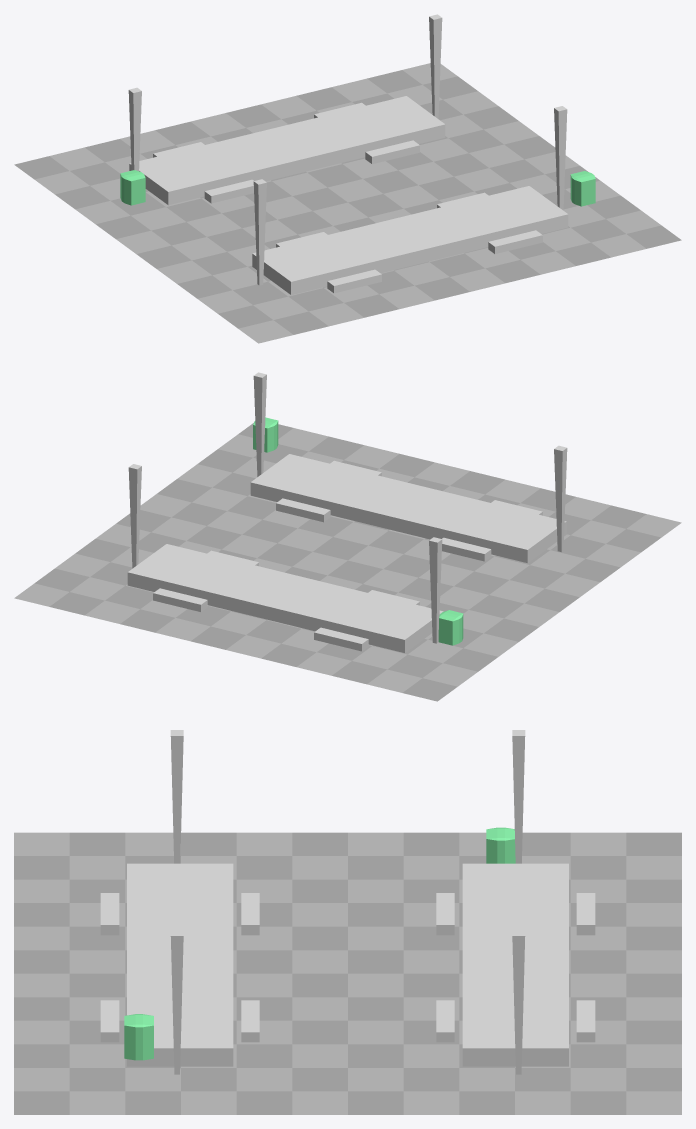
Rendered from taman_jalan.fbx.
3 renders of one model, top to bottom at view 1: azimuth 30°, elevation 25°; view 2: azimuth 150°, elevation 25°; view 3: azimuth 270°, elevation 25°, orthographic. The views are drawn at different scales.
Visible parts, largest first — view 1: Plane.002, Cube.001, Cube.012, Cube.011, Cube.010, Cube.013, Cube.014; view 2: Plane.002, Cube.001, Cube.012, Cube.011, Cube.010, Cube.014, Cube.013; view 3: Plane.002, Cube.001, Cube.012, Cube.011, Cube.010, Cube.013, Cube.014.
Boxes of the visible parts, x1,y1,x2,y2 form: Plane.002: (14, 63, 681, 343); Cube.001: (129, 96, 568, 294); Cube.012: (128, 14, 567, 285); Cube.011: (153, 102, 542, 293); Cube.010: (204, 140, 488, 247); Cube.013: (570, 171, 595, 206); Cube.014: (120, 170, 145, 205); Plane.002: (14, 423, 681, 701); Cube.001: (127, 454, 566, 652); Cube.012: (128, 372, 567, 643); Cube.011: (153, 460, 542, 651); Cube.010: (207, 498, 491, 605); Cube.014: (438, 610, 463, 645); Cube.013: (253, 417, 278, 452); Plane.002: (14, 832, 681, 1114); Cube.001: (127, 863, 568, 1066); Cube.012: (170, 730, 525, 1074); Cube.011: (100, 893, 595, 1042); Cube.010: (241, 893, 454, 1042); Cube.013: (124, 1014, 153, 1060); Cube.014: (486, 827, 515, 863).
Bounding box in the file's own units: 2399 × 559 × 2399.
